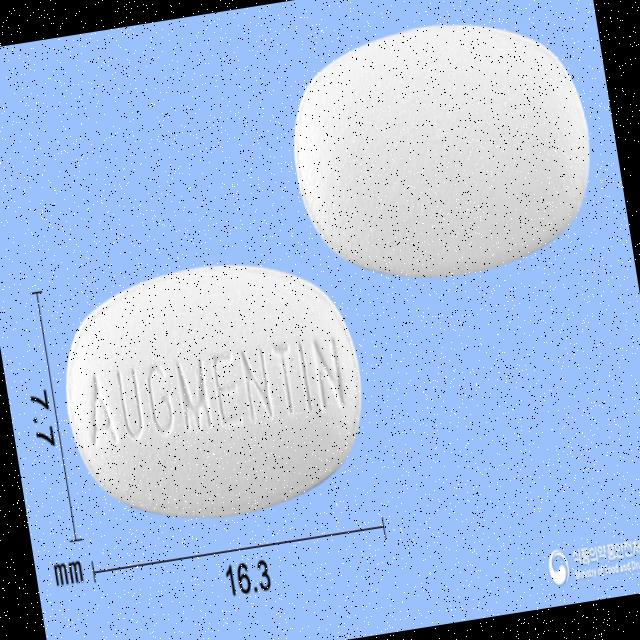Augmentin: (274, 0, 612, 305), (49, 243, 382, 542)
